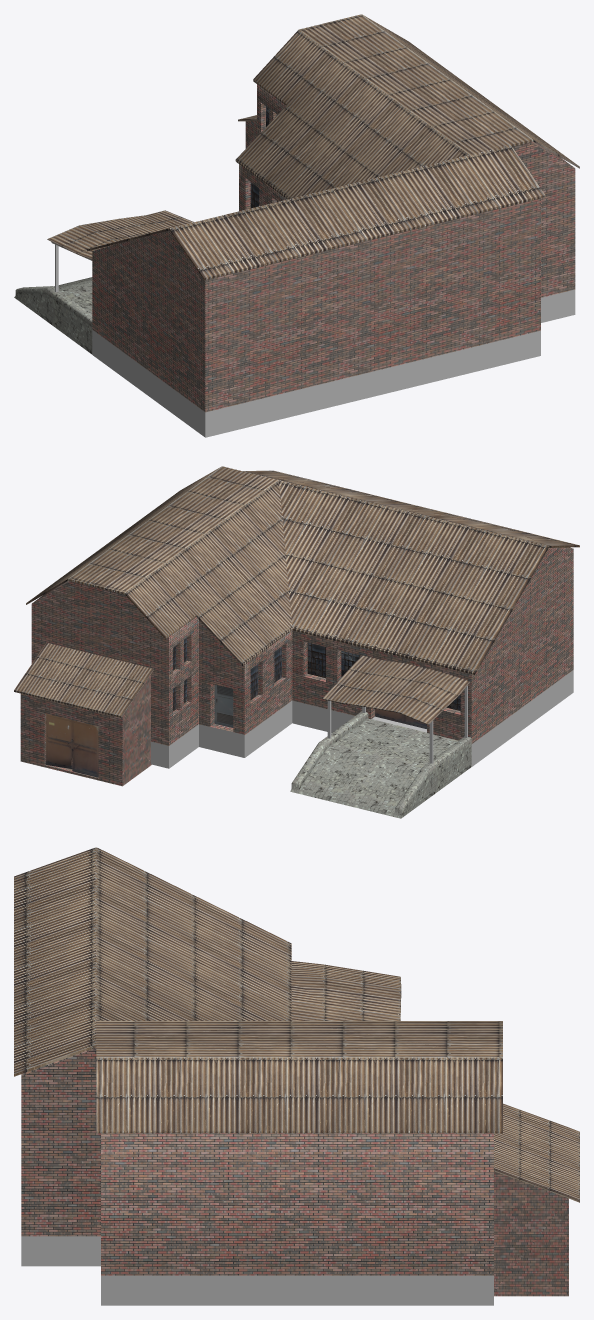
Rendered from house2_lod1.fbx.
3 views of the same model, one above another, from view 1: azimuth 30°, elevation 25°; view 2: azimuth 150°, elevation 25°; view 3: azimuth 270°, elevation 25° (orthographic). The views are drawn at different scales.
Parts seen in each view (by area): view 1: Mesh Object, Mesh Object_ncl1_1; view 2: Mesh Object, Mesh Object_ncl1_1; view 3: Mesh Object, Mesh Object_ncl1_1.
Part boxes in pixels (<box>): Mesh Object: <box>14,14,579,437</box>; Mesh Object_ncl1_1: <box>47,210,193,292</box>; Mesh Object: <box>14,466,579,818</box>; Mesh Object_ncl1_1: <box>322,655,469,763</box>; Mesh Object: <box>14,847,579,1305</box>; Mesh Object_ncl1_1: <box>291,961,401,1020</box>.
Size of the model in its own units: 19.17 by 8.43 by 19.28.
